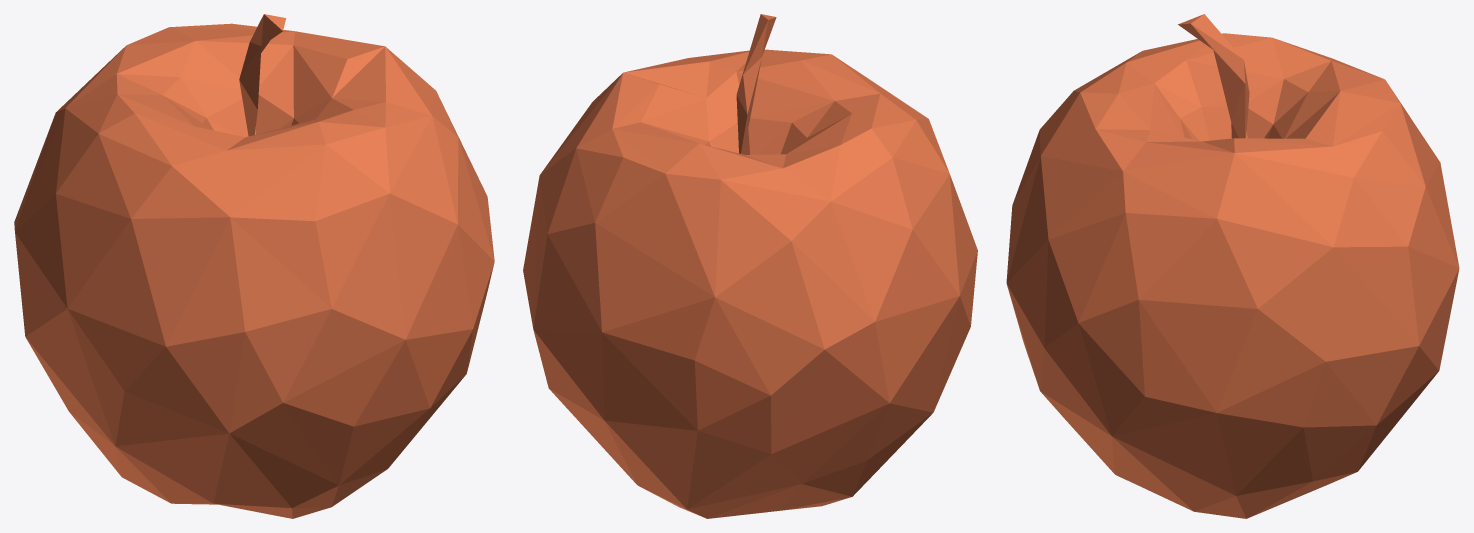
The model's file is apple.dae.
3 views of the same model, side by side, from view 1: azimuth 30°, elevation 25°; view 2: azimuth 150°, elevation 25°; view 3: azimuth 270°, elevation 25° (orthographic). The views are drawn at different scales.
Visible parts, largest first — view 1: node; view 2: node; view 3: node.
Part boxes in pixels (x1,y1,x2,y2): node: (14, 14, 494, 518); node: (523, 14, 977, 518); node: (1006, 14, 1459, 518).
Size of the model in its own units: 0.0228 by 0.0229 by 0.0261.
Materials: 1 (1 with a texture image).
